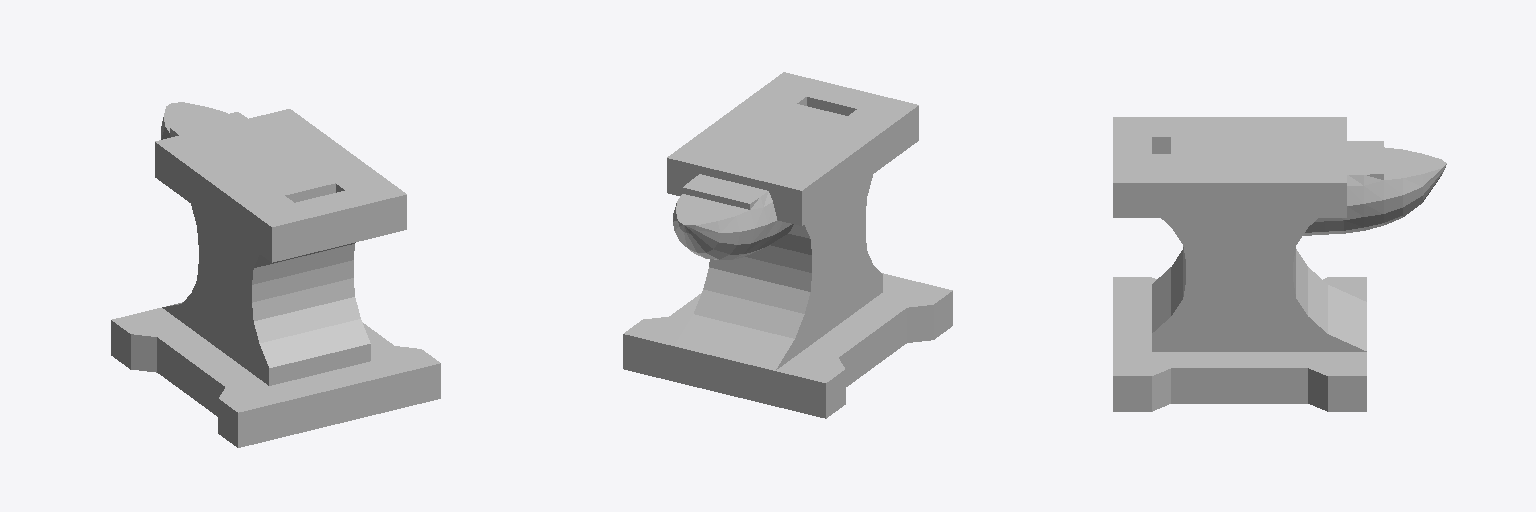
The model's file is pigiron_anvil.obj.
The picture shows the model from 3 angles: view 1: azimuth 30°, elevation 25°; view 2: azimuth 150°, elevation 25°; view 3: azimuth 270°, elevation 25°; orthographic projection.
Parts seen in each view (by area): view 1: Cube_Cube.001; view 2: Cube_Cube.001; view 3: Cube_Cube.001.
Boxes of the visible parts, x1,y1,x2,y2 form: Cube_Cube.001: [111, 102, 440, 447]; Cube_Cube.001: [623, 72, 952, 418]; Cube_Cube.001: [1113, 117, 1446, 411].
Size of the model in its own units: 0.75 by 0.75 by 1.07.